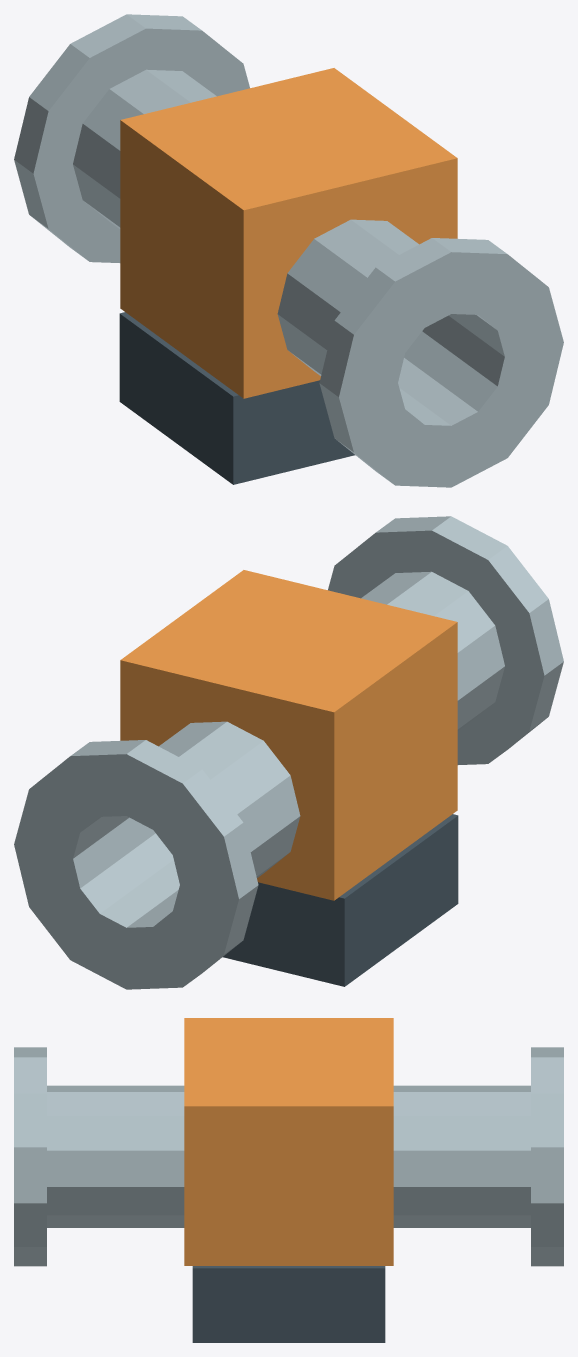
The model's file is inline-check-valve.glb.
The picture shows the model from 3 angles, top to bottom: view 1: azimuth 30°, elevation 25°; view 2: azimuth 150°, elevation 25°; view 3: azimuth 270°, elevation 25°; orthographic projection. The views are drawn at different scales.
Visible parts, largest first — view 1: steel, orange, dark; view 2: steel, orange, dark; view 3: steel, orange, dark.
Part boxes in pixels (x1,y1,x2,y2): steel: [14, 14, 563, 487]; orange: [120, 68, 457, 398]; dark: [119, 312, 355, 484]; steel: [14, 516, 563, 989]; orange: [120, 570, 457, 900]; dark: [222, 814, 458, 986]; steel: [14, 1047, 563, 1266]; orange: [184, 1018, 393, 1265]; dark: [192, 1266, 385, 1342].
Size of the model in its own units: 0.4 by 0.48 by 1.
